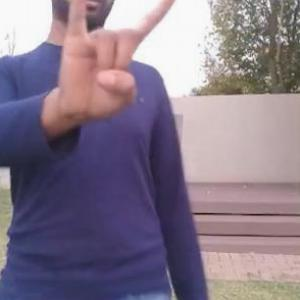takeoff-hand: (55, 0, 186, 122)
